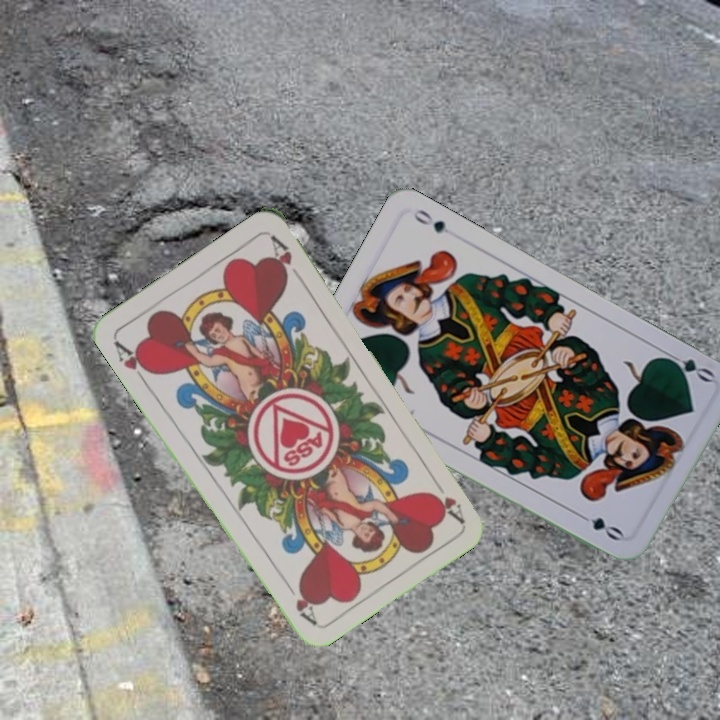GO: (659, 347, 717, 385)
HA: (109, 336, 157, 388), (427, 472, 467, 525)
